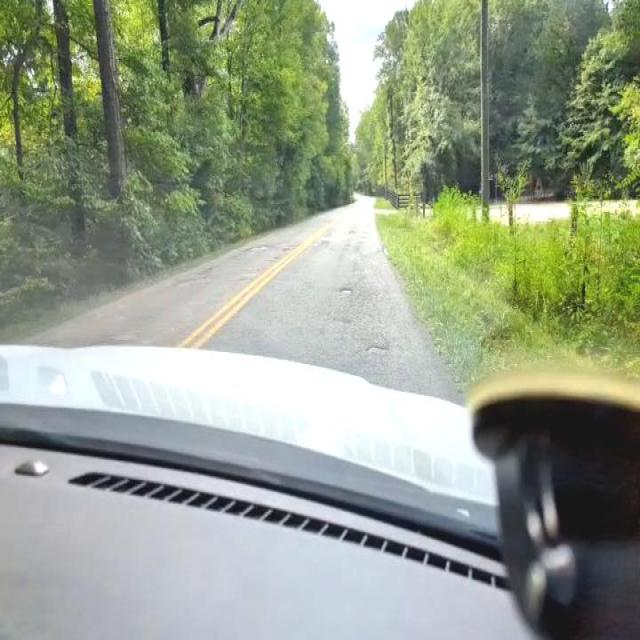pothole: (241, 235, 273, 262), (360, 337, 390, 358), (337, 278, 355, 301)
